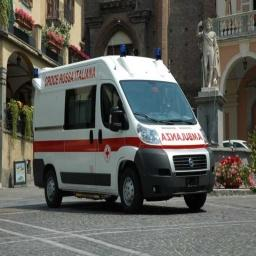Ambulance: (33, 46, 214, 211)
